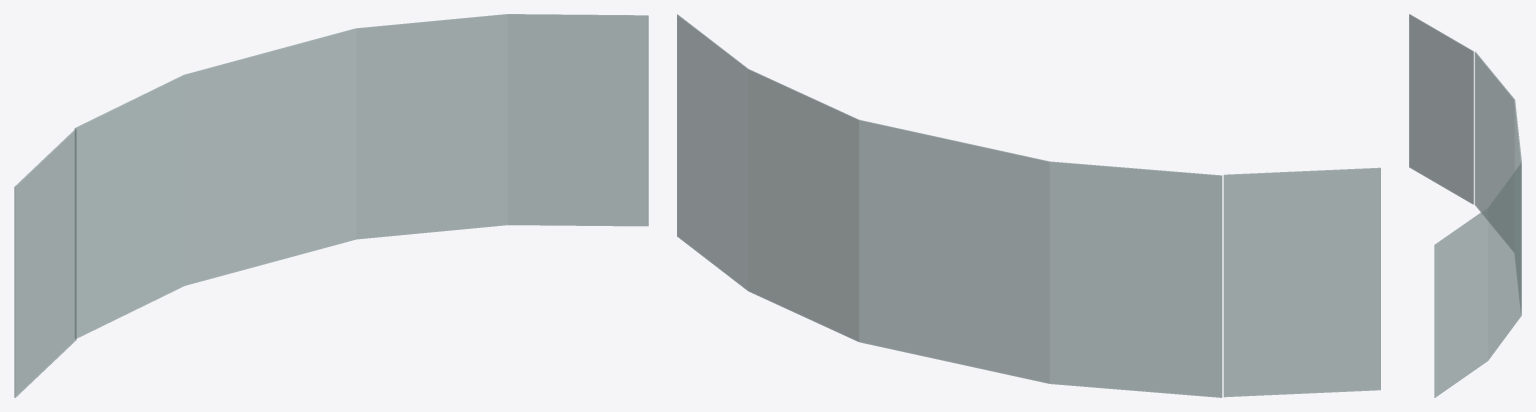
File: okna.FBX
3 renders of one model, left to right at view 1: azimuth 30°, elevation 25°; view 2: azimuth 150°, elevation 25°; view 3: azimuth 270°, elevation 25°, orthographic. The views are drawn at different scales.
Visible parts, largest first — view 1: Box677, Box676; view 2: Box677, Box676; view 3: Box677, Box676.
Boxes of the visible parts, x1,y1,x2,y2 form: Box677: (74,14,648,338); Box676: (14,129,76,397); Box677: (677,14,1222,397); Box676: (1223,167,1380,397); Box677: (1434,51,1521,397); Box676: (1409,14,1473,204).
Bounding box in the file's own units: 63.36 × 19.6 × 13.11.
